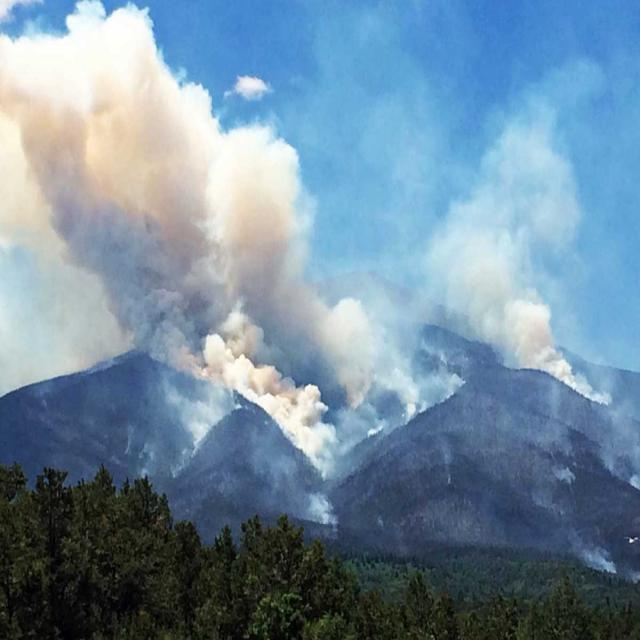Smoke: (38, 36, 333, 462), (501, 297, 590, 397)
